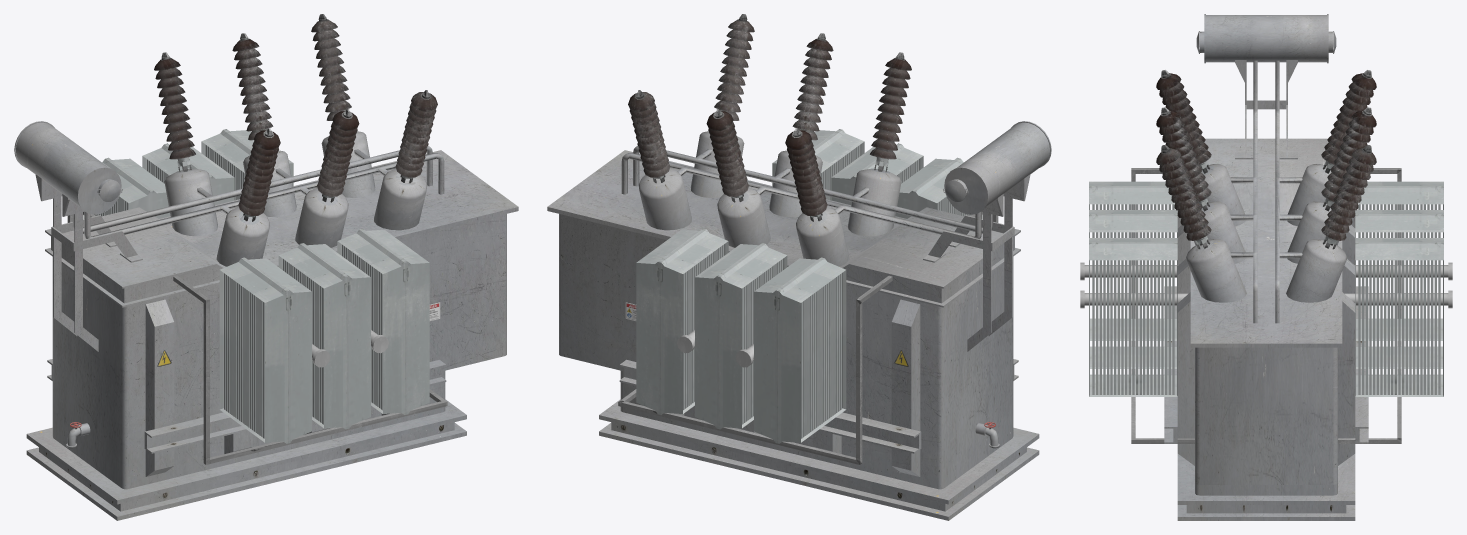
The model's file is transformer.glb.
3 views of the same model, side by side, from view 1: azimuth 30°, elevation 25°; view 2: azimuth 150°, elevation 25°; view 3: azimuth 270°, elevation 25° (orthographic). The views are drawn at different scales.
Visible parts, largest first — view 1: Object_8, Object_10; view 2: Object_8, Object_10; view 3: Object_8, Object_10.
Boxes of the visible parts, box(x1,y1,x2,y2) form: Object_8: box(14, 121, 518, 520); Object_10: box(67, 14, 447, 464); Object_8: box(547, 121, 1051, 520); Object_10: box(618, 14, 998, 464); Object_8: box(1164, 14, 1368, 520); Object_10: box(1080, 70, 1452, 443).
Bounding box in the file's own units: 5.52 × 4.4 × 4.2.
Materials: 2 (2 with a texture image).
